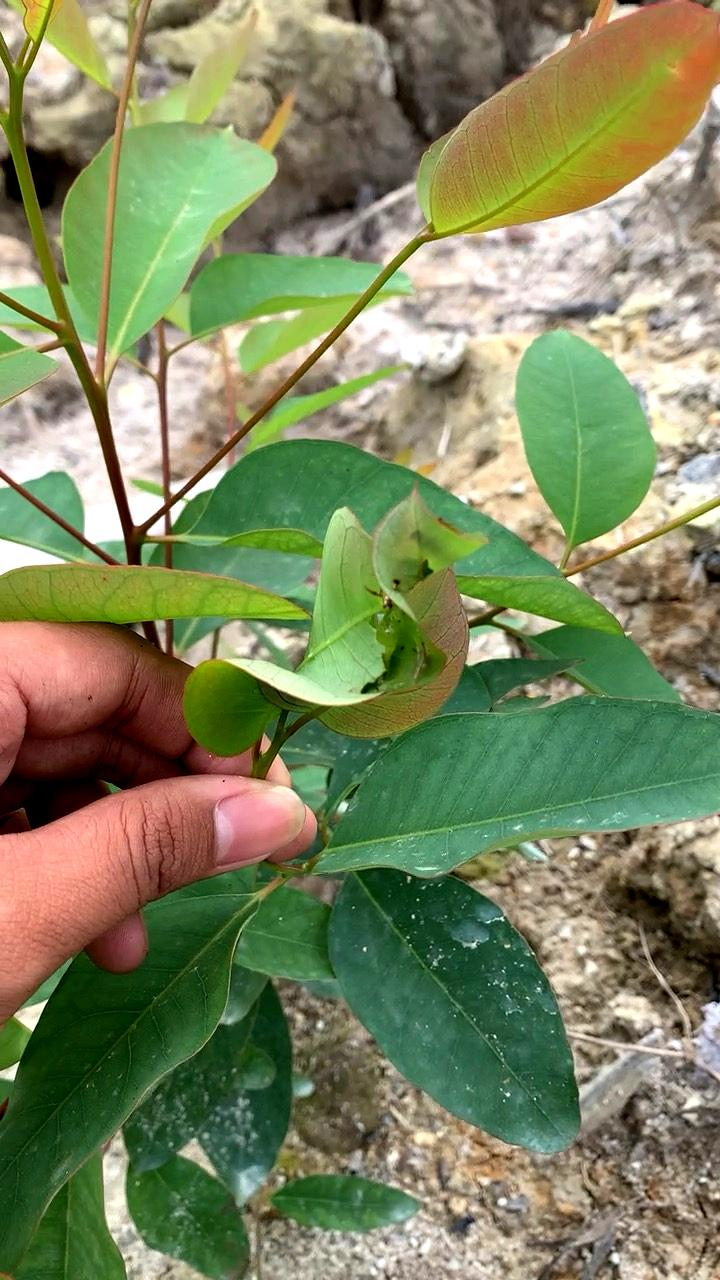Leaf Roller - Leaf: (167, 460, 510, 860)
